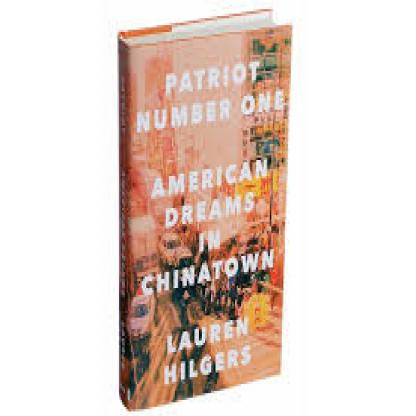Electronics: (96, 0, 326, 416)
